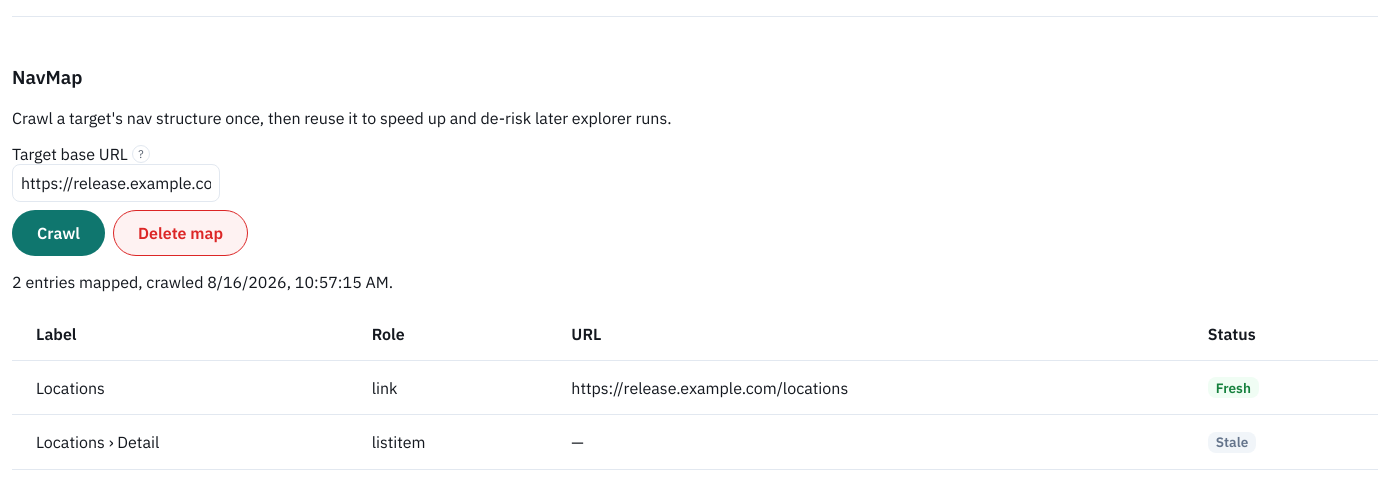
Test case: NavMapPanel (Settings page) › Delete map really removes the map from view once confirmed
The image size is (1378, 487).
Check: the text "Locations" is shown, box left=12, top=360, right=348, bottom=415
Click the button "Delete map" at point(181, 233), box left=113, top=210, right=248, bottom=256
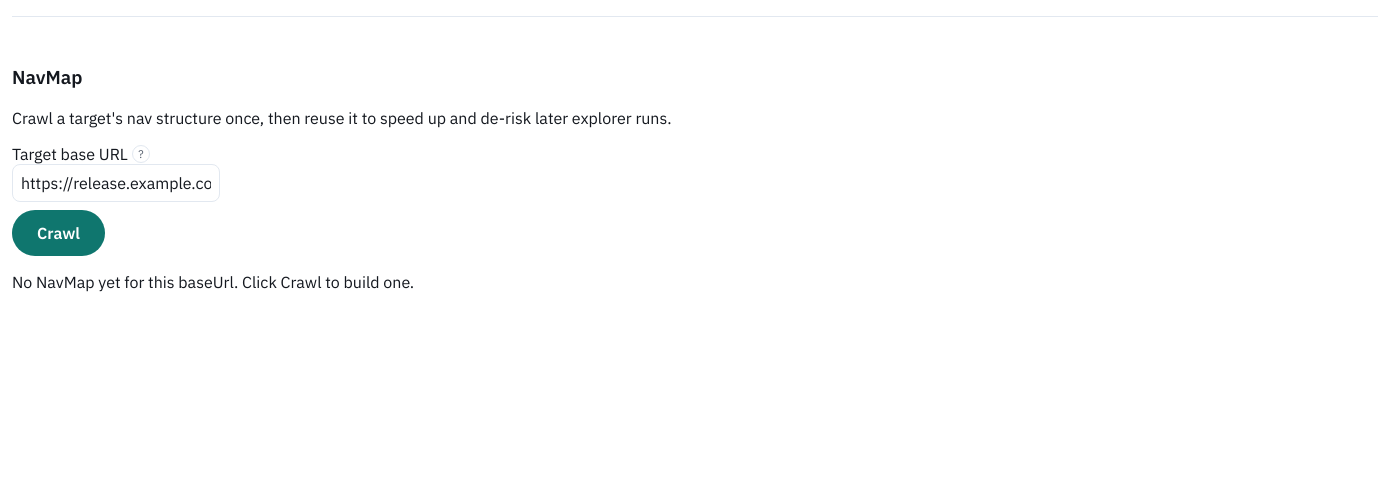
Check: the text "Locations" is gone
